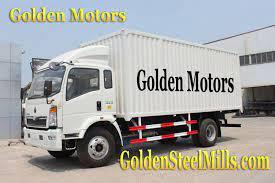truck: (14, 27, 245, 167)
